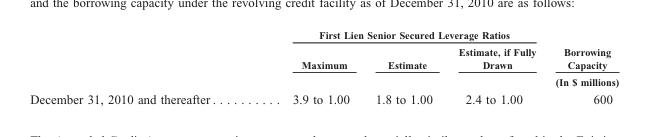table: (29, 29, 618, 105)
table column: (29, 29, 253, 105), (253, 29, 361, 105), (444, 29, 545, 105), (361, 29, 444, 105), (545, 29, 618, 105)
table column header: (29, 29, 618, 89)
table row: (29, 43, 618, 89), (29, 89, 618, 105), (29, 29, 618, 43)
table spanning cell: (545, 29, 618, 89), (253, 29, 545, 43)
